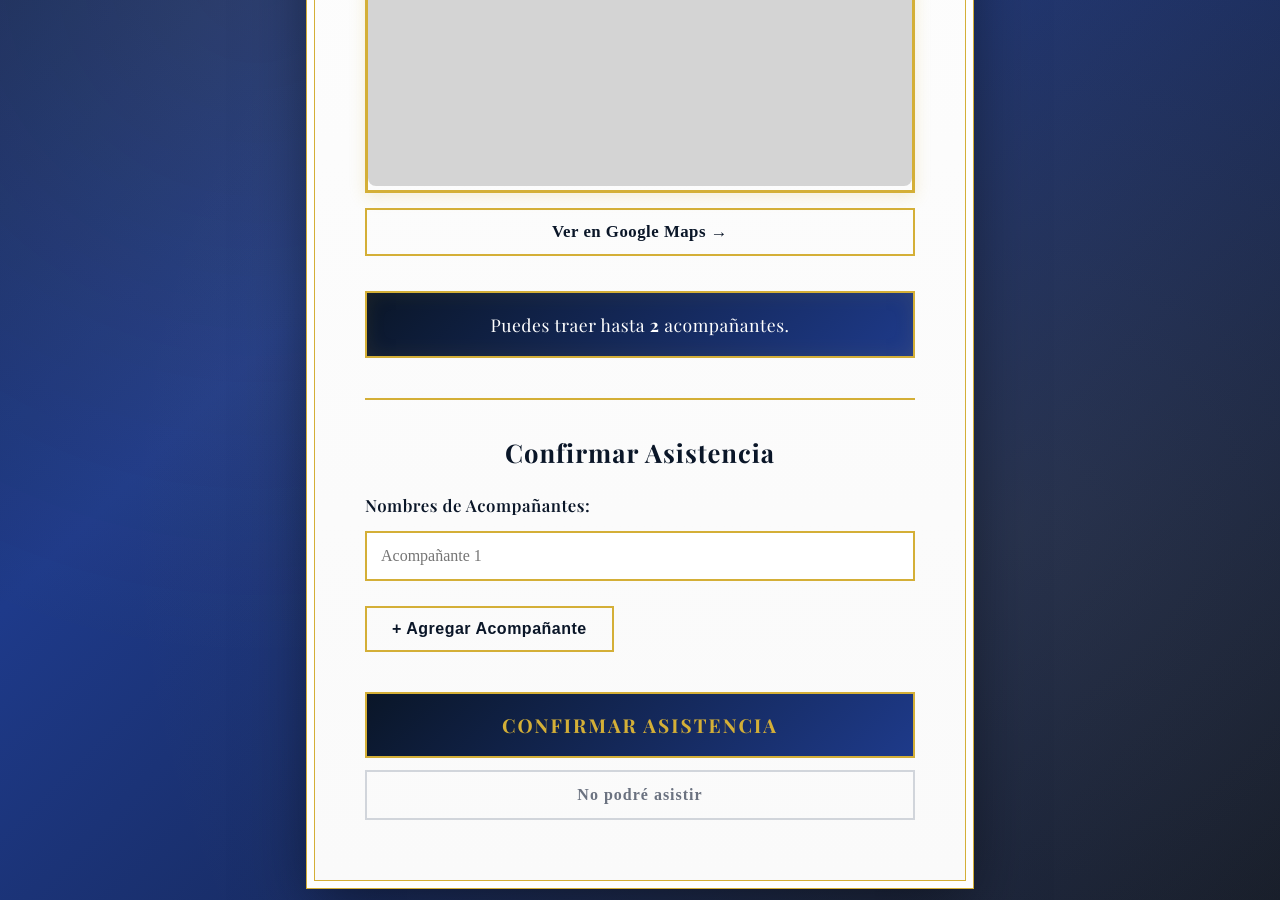
InvitationPage › Test de validación de límite de acompañantes › should prevent adding more companions than the limit
(page scrolled)
Check: the number of fields with placeholder "Acompañante 1" is 1, box top-left (365, 531), bottom-right (915, 581)
Add one more to reach limit of 2
What coordinates should you click on to do the following:
click the button "+ Agregar Acompañante"
I would click on:
 (489, 629)
Its box is top-left (365, 606), bottom-right (614, 652).
(page scrolled)
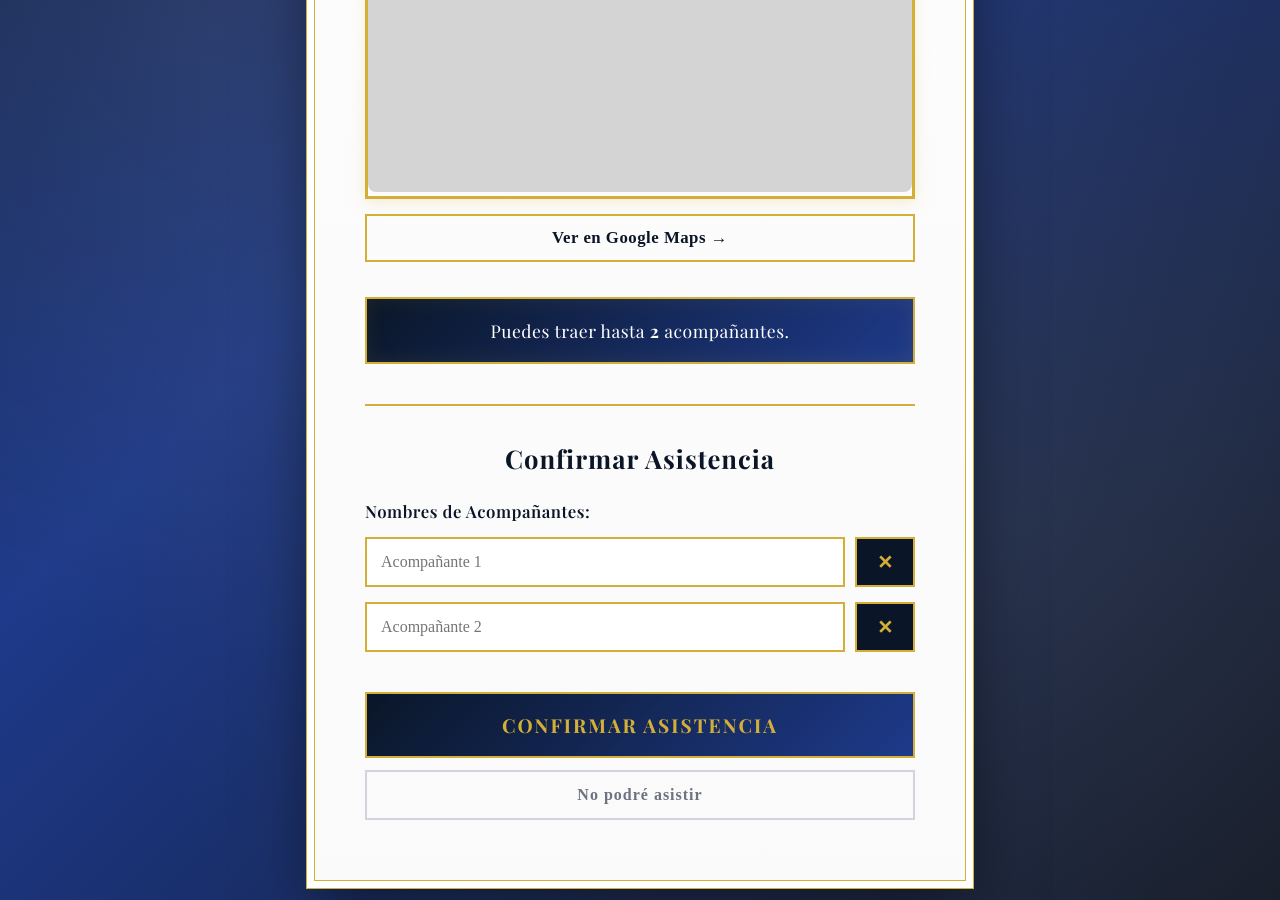
Check: the number of fields with placeholder "Acompañante 1" is 2, box top-left (365, 537), bottom-right (845, 587); top-left (365, 602), bottom-right (845, 652)
Check: the button "Agregar Acompañante" is gone
